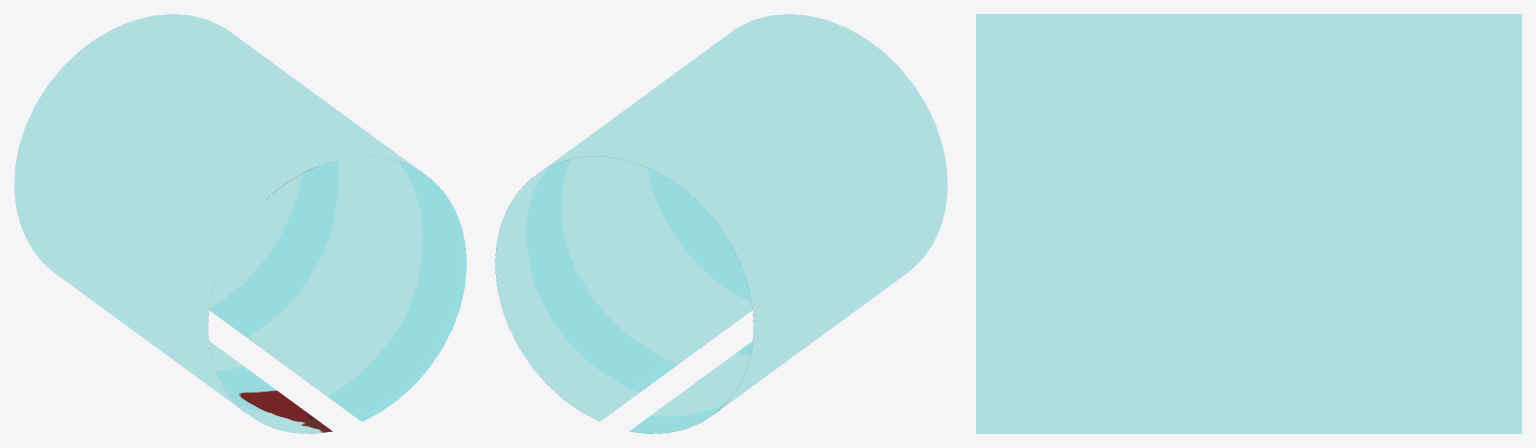
Rendered from Level 100.fbx.
The picture shows the model from 3 angles, left to right: view 1: azimuth 30°, elevation 25°; view 2: azimuth 150°, elevation 25°; view 3: azimuth 270°, elevation 25°; orthographic projection. The views are drawn at different scales.
Visible parts, largest first — view 1: hair; view 2: hair; view 3: hair.
Part boxes in pixels (left/top/right/bottom): hair: left=14, top=14, right=466, bottom=433; hair: left=495, top=14, right=947, bottom=433; hair: left=976, top=14, right=1521, bottom=433.
Size of what is drawn, in the model's own units: 365 by 364 by 473.
